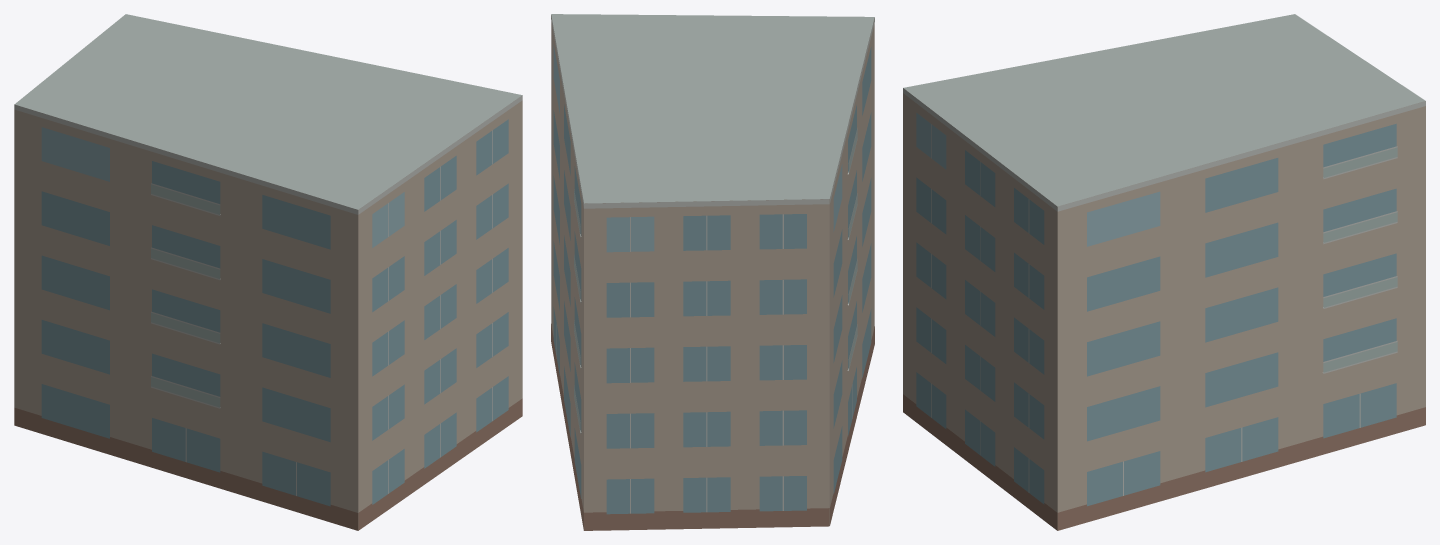
Rendered from survey-upis-32715196.glb.
3 views of the same model, side by side, from view 1: azimuth 30°, elevation 25°; view 2: azimuth 150°, elevation 25°; view 3: azimuth 270°, elevation 25° (orthographic).
Parts seen in each view (by area): view 1: survey-upis-32715196.tmp; view 2: survey-upis-32715196.tmp; view 3: survey-upis-32715196.tmp.
Part boxes in pixels (<box>): survey-upis-32715196.tmp: <box>14,14,522,530</box>; survey-upis-32715196.tmp: <box>551,14,874,530</box>; survey-upis-32715196.tmp: <box>903,14,1425,530</box>.
Size of the model in its own units: 19.49 by 15.3 by 22.36.
